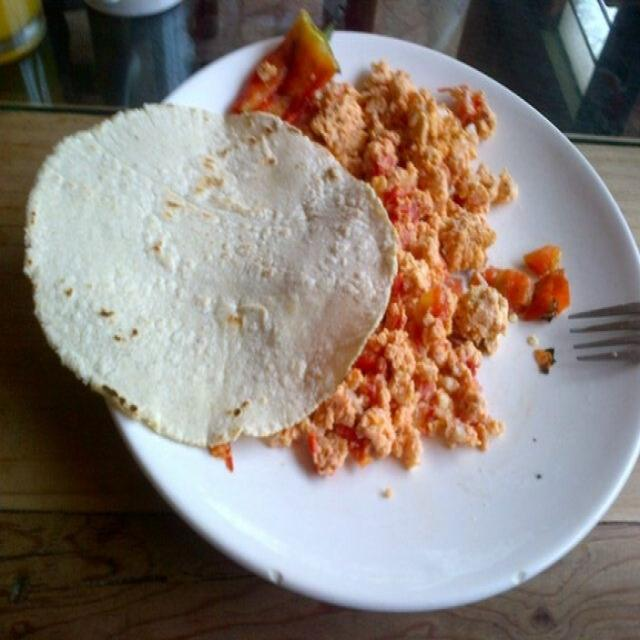面包点心: (16, 31, 621, 588)
